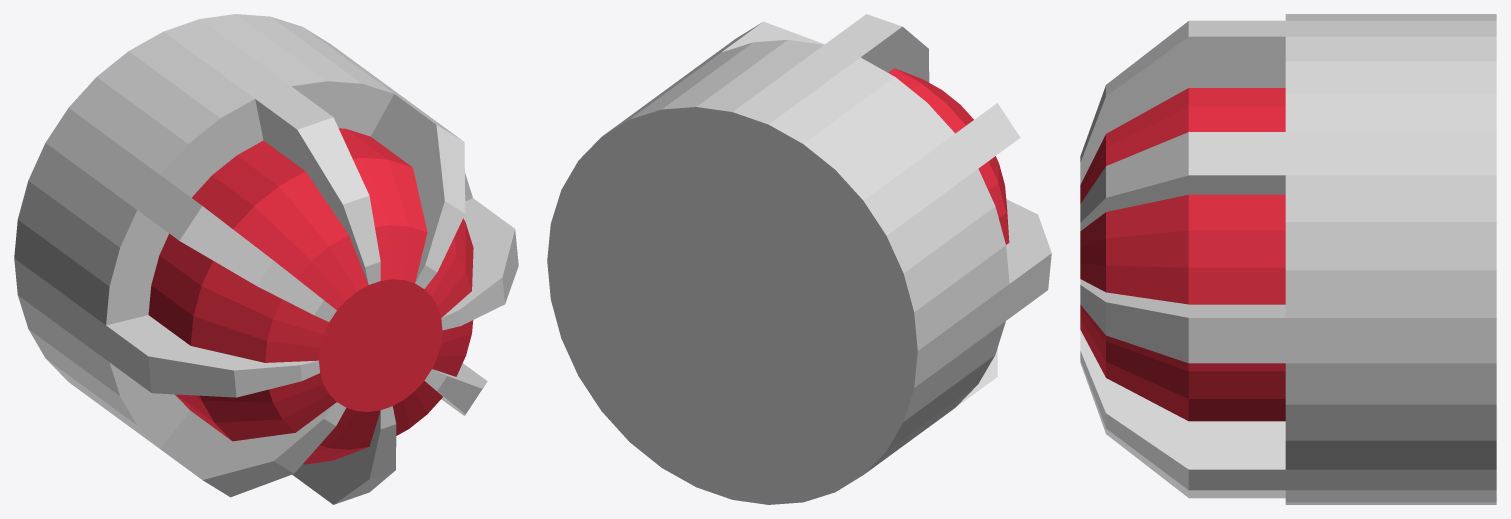
The model's file is WarningLight.fbx.
The picture shows the model from 3 angles, left to right: view 1: azimuth 30°, elevation 25°; view 2: azimuth 150°, elevation 25°; view 3: azimuth 270°, elevation 25°; orthographic projection. The views are drawn at different scales.
Visible parts, largest first — view 1: Light; view 2: Light; view 3: Light.
Boxes of the visible parts, box(x1,y1,x2,y2) form: Light: box(14, 14, 518, 504); Light: box(547, 14, 1051, 504); Light: box(1080, 14, 1496, 504).
Bounding box in the file's own units: 208 × 208 × 176.
